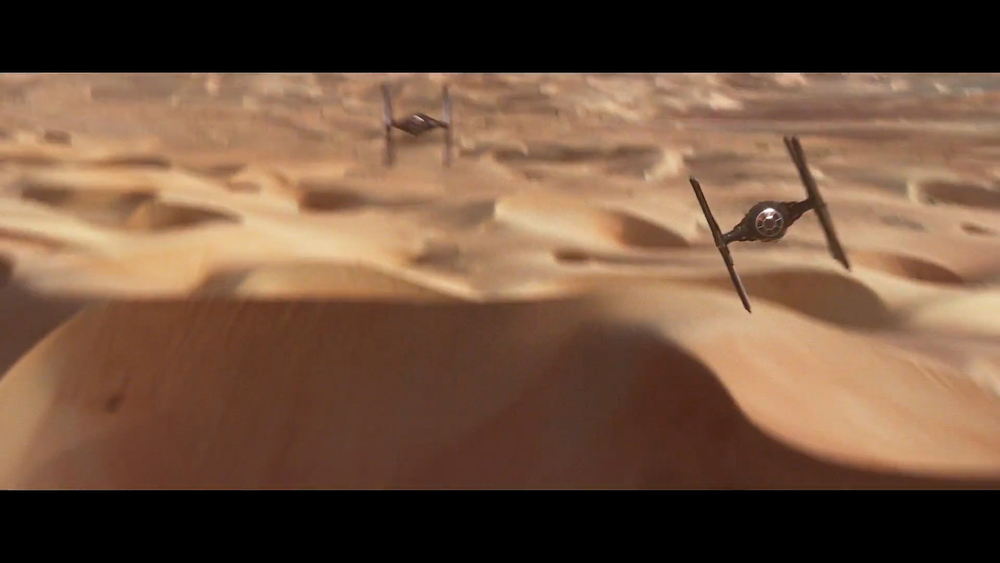Tie Fighter: (688, 135, 853, 316), (381, 81, 453, 172)
